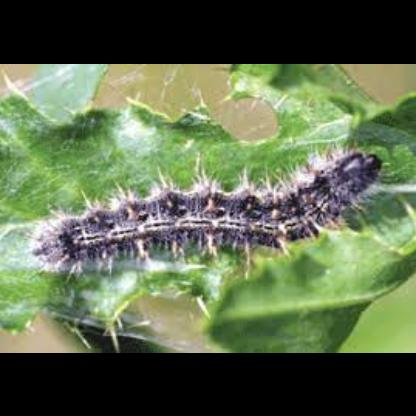oruga: (41, 153, 385, 267)
